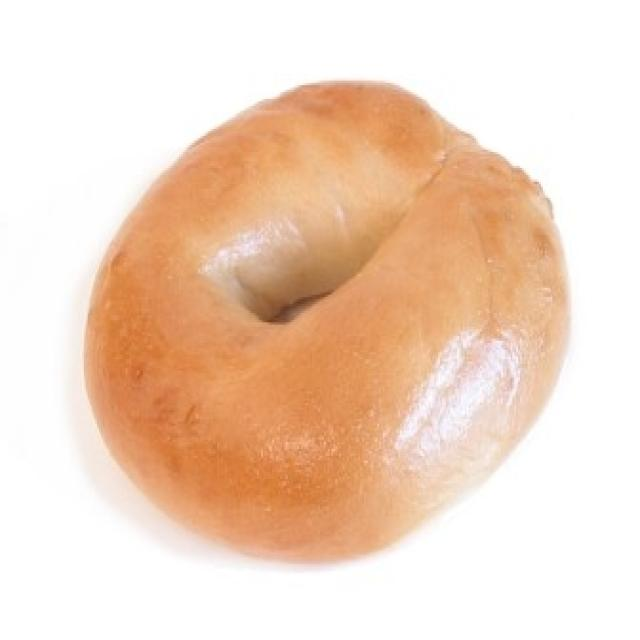面包点心: (36, 26, 596, 596)
